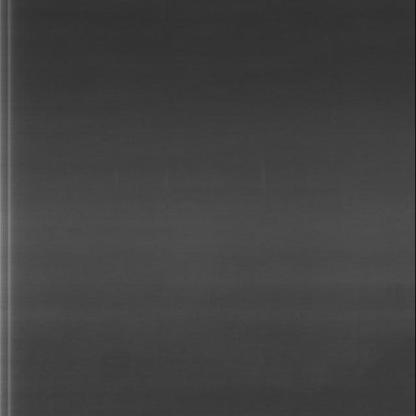welding_line: (0, 0, 31, 415)
